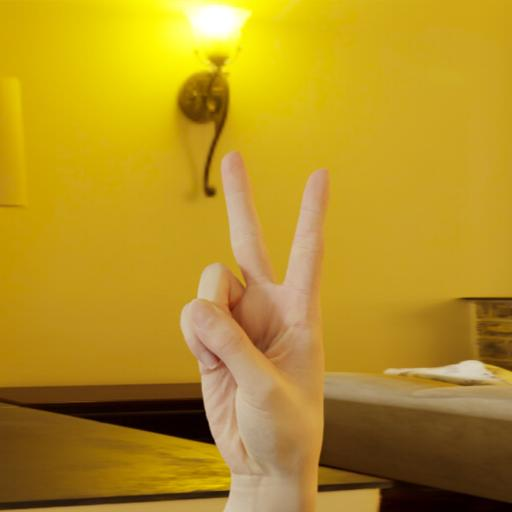V: (175, 147, 337, 477)
